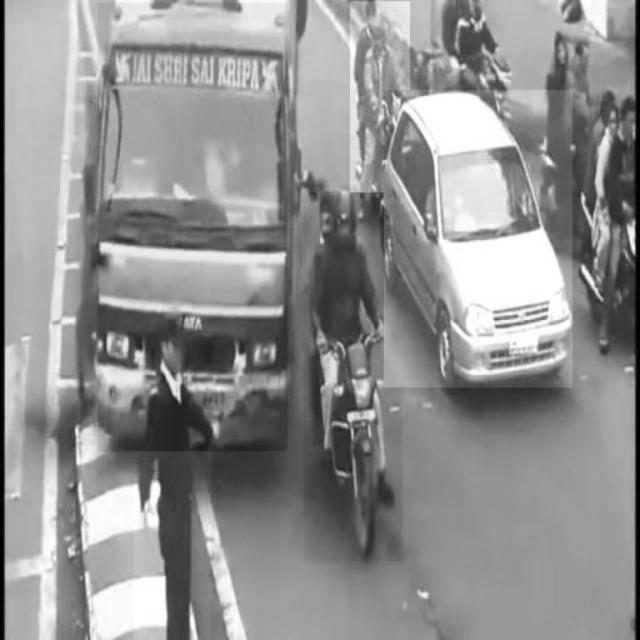person: (135, 316, 212, 640)
vehicle: (99, 3, 289, 451), (384, 91, 572, 388), (305, 192, 403, 562), (350, 1, 410, 191)
